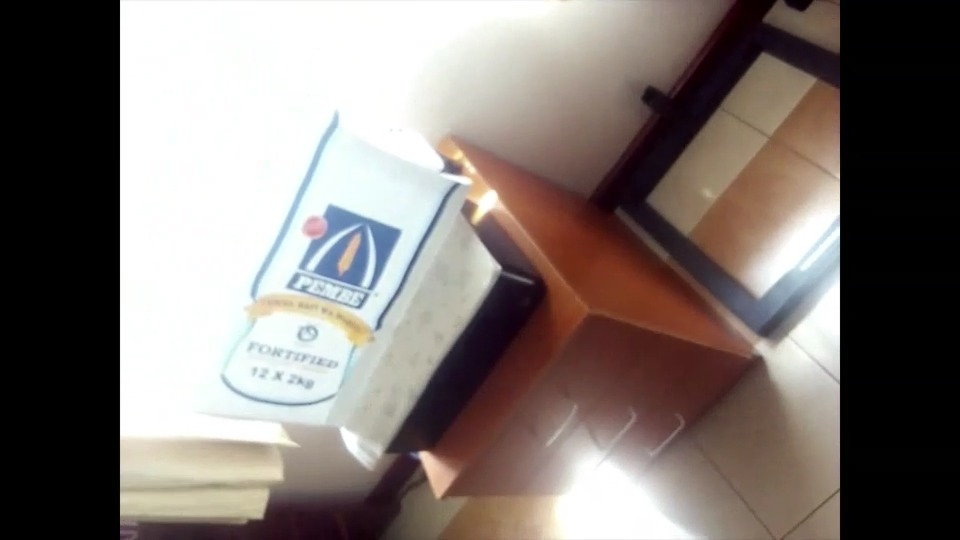wheat_flour_blue_label: (208, 105, 473, 438)
